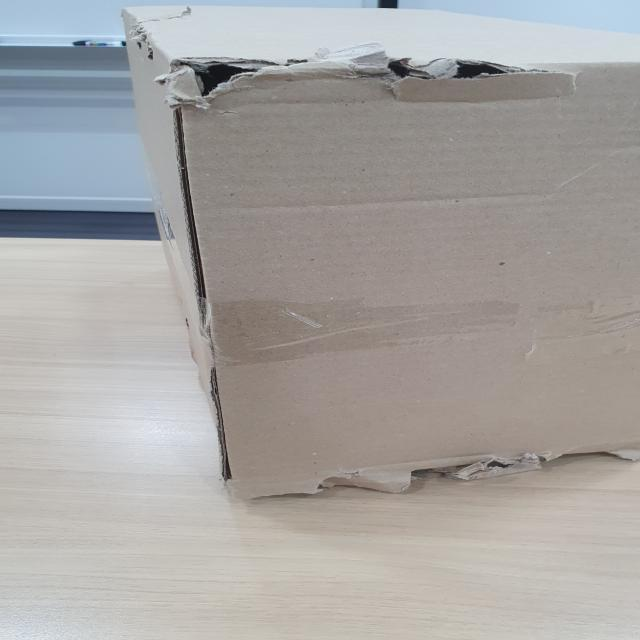hole: (379, 51, 551, 95), (171, 50, 279, 92)
